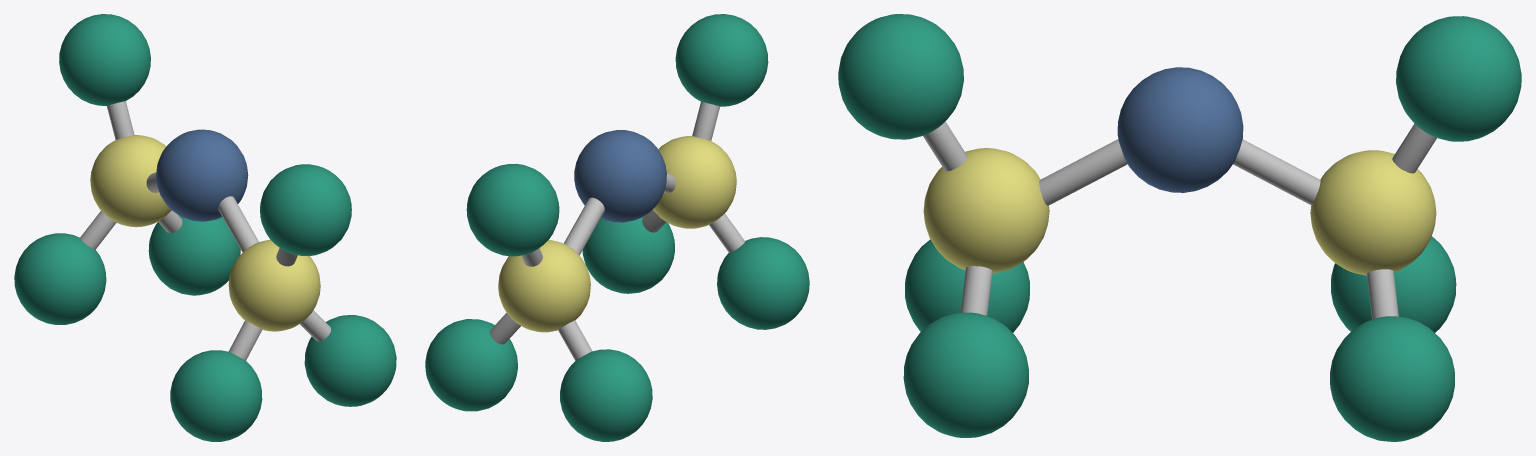
Rendered from efir.gltf.
3 views of the same model, side by side, from view 1: azimuth 30°, elevation 25°; view 2: azimuth 150°, elevation 25°; view 3: azimuth 270°, elevation 25° (orthographic). The views are drawn at different scales.
Visible parts, largest first — view 1: Sphere.003, Sphere, Sphere.002, 5, 1, 2, 7, 4; view 2: Sphere.003, Sphere, Sphere.002, 3, 7, 6, 2, 8; view 3: Sphere.003, Sphere, Sphere.002, 5, 3, 8, 4, 1, 6.
Boxes of the visible parts, x1,y1,x2,y2 form: Sphere.003: (14,14,396,441); Sphere: (90,135,320,331); Sphere.002: (156,129,248,221); 5: (218,196,258,252); 1: (107,101,134,139); 2: (228,320,261,360); 7: (80,211,116,249); 4: (300,310,330,341); Sphere.003: (425,14,809,441); Sphere: (498,136,736,332); Sphere.002: (574,130,666,222); 3: (564,197,604,255); 7: (558,320,592,360); 6: (692,101,719,140); 2: (709,213,744,252); 8: (489,313,520,344); Sphere.003: (838,14,1521,441); Sphere: (923,148,1436,275); Sphere.002: (1117,67,1243,192); 5: (1039,139,1127,205); 3: (1233,139,1320,205); 8: (1367,269,1398,319); 4: (960,266,992,315); 1: (1392,124,1436,173); 6: (923,121,967,171).
Size of the model in its own units: 5.35 by 6.49 by 10.85.
